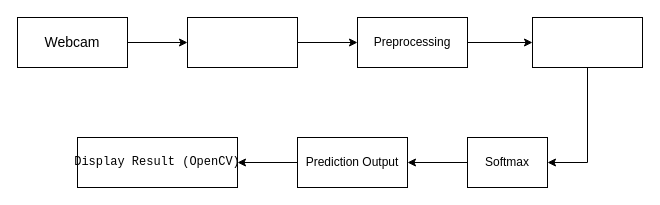
This 660x205 diagram has some shape labels left out. Here are the shapes that lost their labels. From the top down, the centre of each, then its label:
point 242,42: OpenCV Frame Capture
point 587,42: ResNet50 Model
